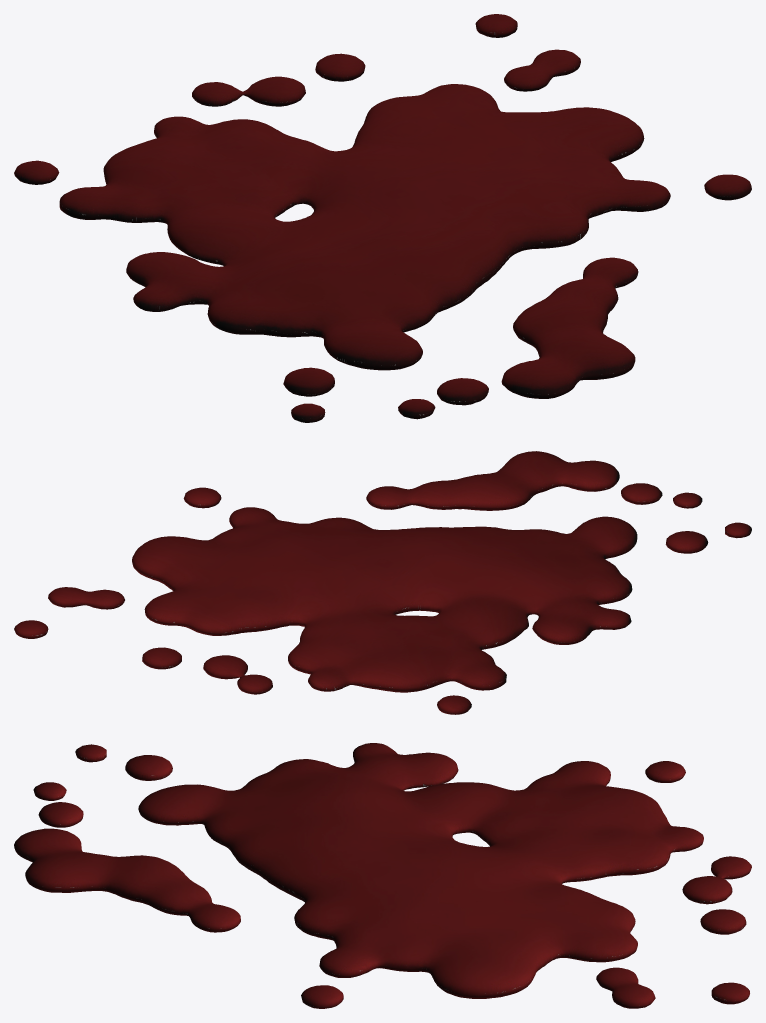
Rendered from blood.glb.
3 renders of one model, top to bottom at view 1: azimuth 30°, elevation 25°; view 2: azimuth 150°, elevation 25°; view 3: azimuth 270°, elevation 25°, orthographic. The views are drawn at different scales.
Parts seen in each view (by area): view 1: Remesh; view 2: Remesh; view 3: Remesh.
Boxes of the visible parts, x1,y1,x2,y2 form: Remesh: (14, 14, 751, 422); Remesh: (14, 451, 751, 714); Remesh: (14, 743, 751, 1008).
Size of the model in its own units: 13.49 by 1.1 by 16.13.
1 material, 1 textured.
